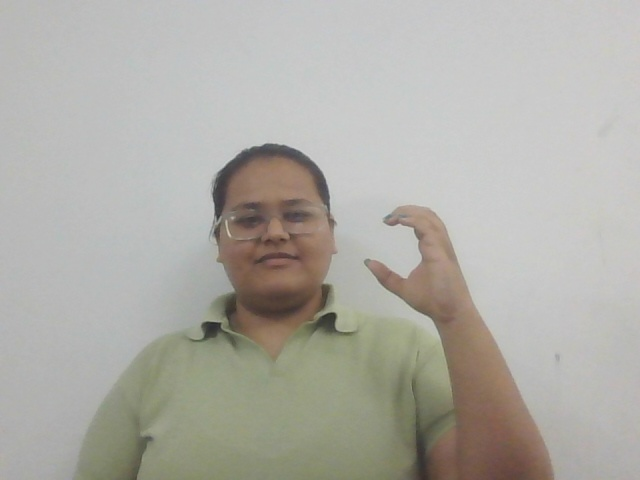C: (356, 200, 467, 319)
